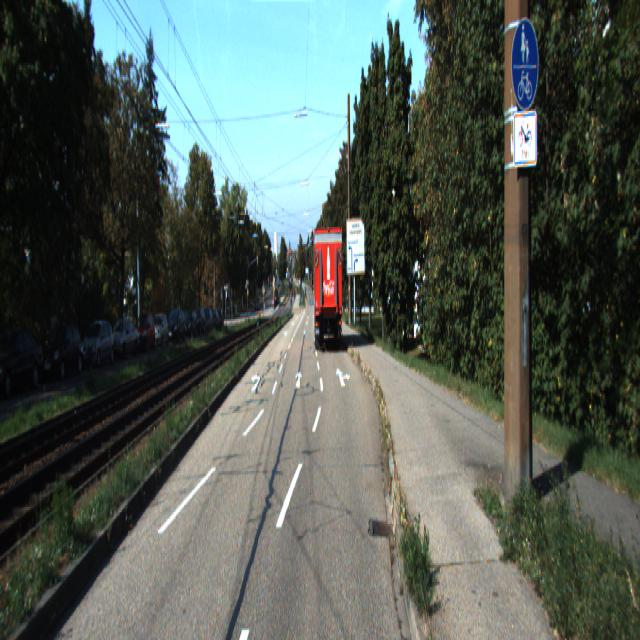Car: (312, 224, 344, 352), (0, 322, 46, 400), (40, 320, 84, 381), (80, 320, 116, 371), (106, 317, 138, 359), (134, 312, 156, 354), (149, 310, 169, 344)
